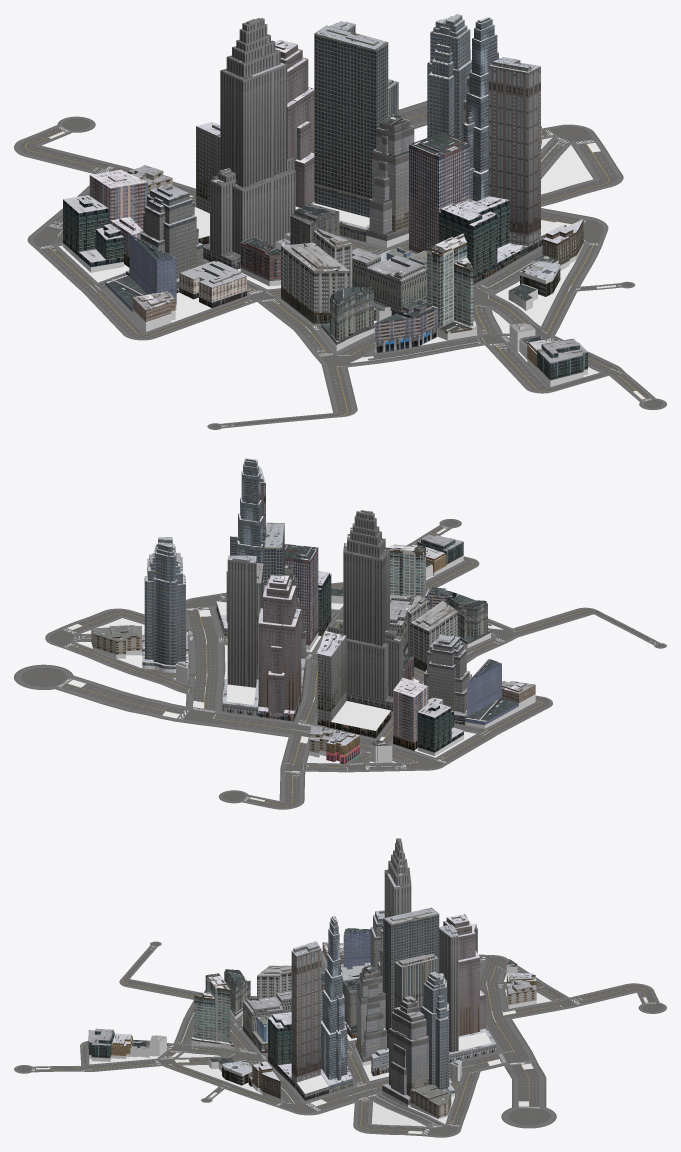
File: imaginary_city_i.glb
3 renders of one model, top to bottom at view 1: azimuth 30°, elevation 25°; view 2: azimuth 150°, elevation 25°; view 3: azimuth 270°, elevation 25°, orthographic. The views are drawn at different scales.
Visible parts, largest first — view 1: CityEngineMaterial_31_m, CityEngineMaterial_3_m, CityEngineMaterial_98_m, CityEngineMaterial_1_m, CityEngineMaterial_106_m, CityEngineMaterial_108_m, CityEngineMaterial_115_m, CityEngineMaterial_74_m, CityEngineMaterial_71_m, CityEngineMaterial_112_m, CityEngineMaterial_94_m, CityEngineMaterial_49_m (+37 smaller); view 2: CityEngineMaterial_31_m, CityEngineMaterial_1_m, CityEngineMaterial_3_m, CityEngineMaterial_94_m, CityEngineMaterial_71_m, CityEngineMaterial_4_m, CityEngineMaterial_112_m, CityEngineMaterial_133_m, CityEngineMaterial_108_m, CityEngineMaterial_164_m, CityEngineMaterial_2_m, CityEngineMaterial_115_m (+22 smaller); view 3: CityEngineMaterial_1_m, CityEngineMaterial_3_m, CityEngineMaterial_74_m, CityEngineMaterial_106_m, CityEngineMaterial_31_m, CityEngineMaterial_112_m, CityEngineMaterial_4_m, CityEngineMaterial_98_m, CityEngineMaterial_94_m, CityEngineMaterial_71_m, CityEngineMaterial_79_m, CityEngineMaterial_2_m (+17 smaller).
Boxes of the visible parts, box(x1,y1,x2,y2) form: CityEngineMaterial_31_m: box(203, 18, 355, 260); CityEngineMaterial_3_m: box(14, 101, 666, 429); CityEngineMaterial_98_m: box(314, 30, 388, 235); CityEngineMaterial_1_m: box(19, 106, 648, 424); CityEngineMaterial_106_m: box(488, 60, 566, 246); CityEngineMaterial_108_m: box(63, 197, 528, 278); CityEngineMaterial_115_m: box(409, 141, 469, 252); CityEngineMaterial_74_m: box(366, 53, 498, 240); CityEngineMaterial_71_m: box(427, 15, 471, 139); CityEngineMaterial_112_m: box(462, 18, 497, 201); CityEngineMaterial_94_m: box(275, 41, 314, 208); CityEngineMaterial_49_m: box(281, 229, 352, 312); CityEngineMaterial_31_m: box(222, 511, 403, 711); CityEngineMaterial_1_m: box(63, 527, 645, 807); CityEngineMaterial_3_m: box(14, 519, 666, 809); CityEngineMaterial_94_m: box(258, 576, 301, 713); CityEngineMaterial_71_m: box(142, 539, 188, 669); CityEngineMaterial_4_m: box(21, 520, 663, 801); CityEngineMaterial_112_m: box(220, 458, 265, 632); CityEngineMaterial_133_m: box(424, 636, 469, 720); CityEngineMaterial_108_m: box(318, 573, 463, 752); CityEngineMaterial_164_m: box(317, 636, 346, 721); CityEngineMaterial_2_m: box(21, 520, 664, 807); CityEngineMaterial_115_m: box(284, 548, 318, 645); CityEngineMaterial_1_m: box(36, 952, 654, 1133); CityEngineMaterial_3_m: box(14, 941, 666, 1137); CityEngineMaterial_74_m: box(355, 967, 428, 1104); CityEngineMaterial_106_m: box(291, 946, 328, 1096); CityEngineMaterial_31_m: box(380, 839, 496, 1058); CityEngineMaterial_112_m: box(321, 917, 352, 1089); CityEngineMaterial_4_m: box(17, 942, 663, 1135); CityEngineMaterial_98_m: box(383, 912, 439, 1048); CityEngineMaterial_94_m: box(443, 916, 485, 1036); CityEngineMaterial_71_m: box(420, 973, 454, 1093); CityEngineMaterial_79_m: box(191, 975, 234, 1046); CityEngineMaterial_2_m: box(17, 942, 663, 1135).
Bounding box in the file's own units: 80.05 × 31.58 × 106.
Materials: 100 (99 with a texture image).
